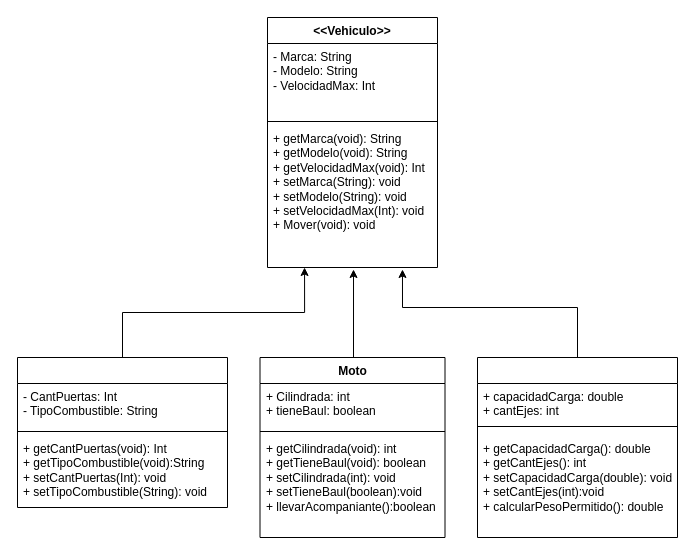
The diagram is 695 pixels wide and 558 high, and some of its shapes have lost their labels. Each missing label, with the box of its shape:
Auto: (16, 356, 228, 508)
Camion: (476, 356, 678, 538)
